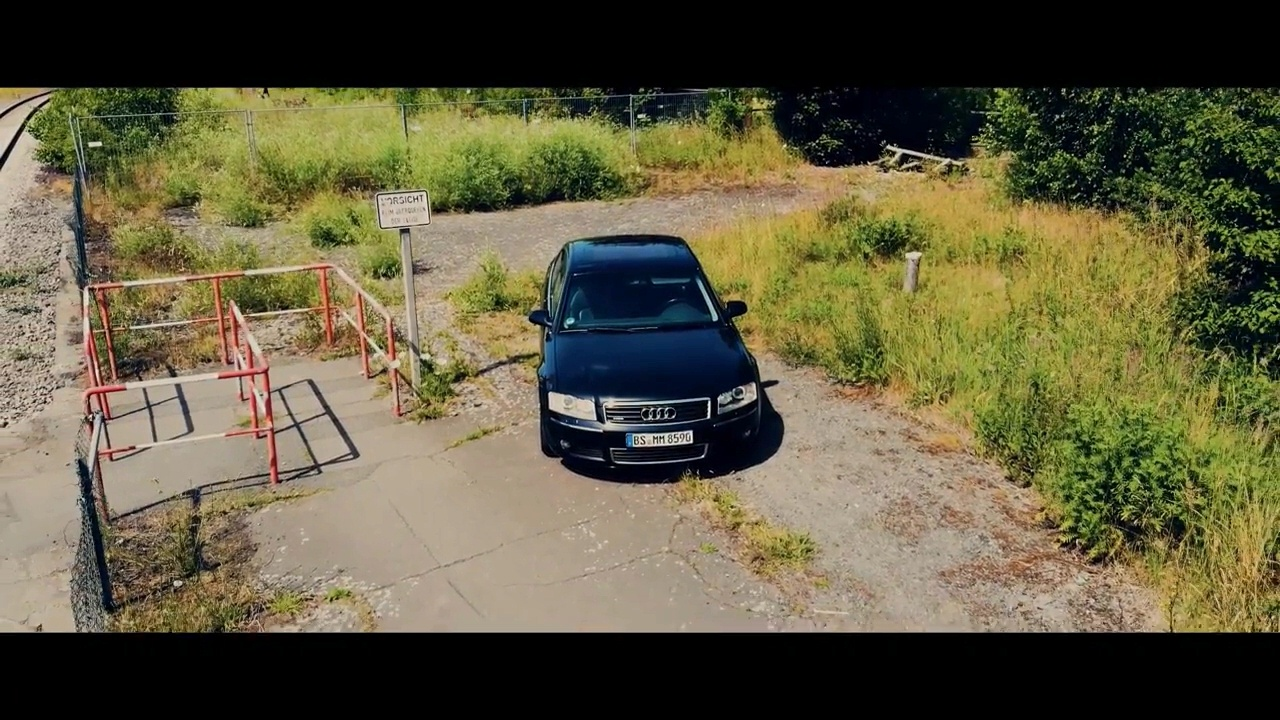araba: (533, 227, 762, 471)
